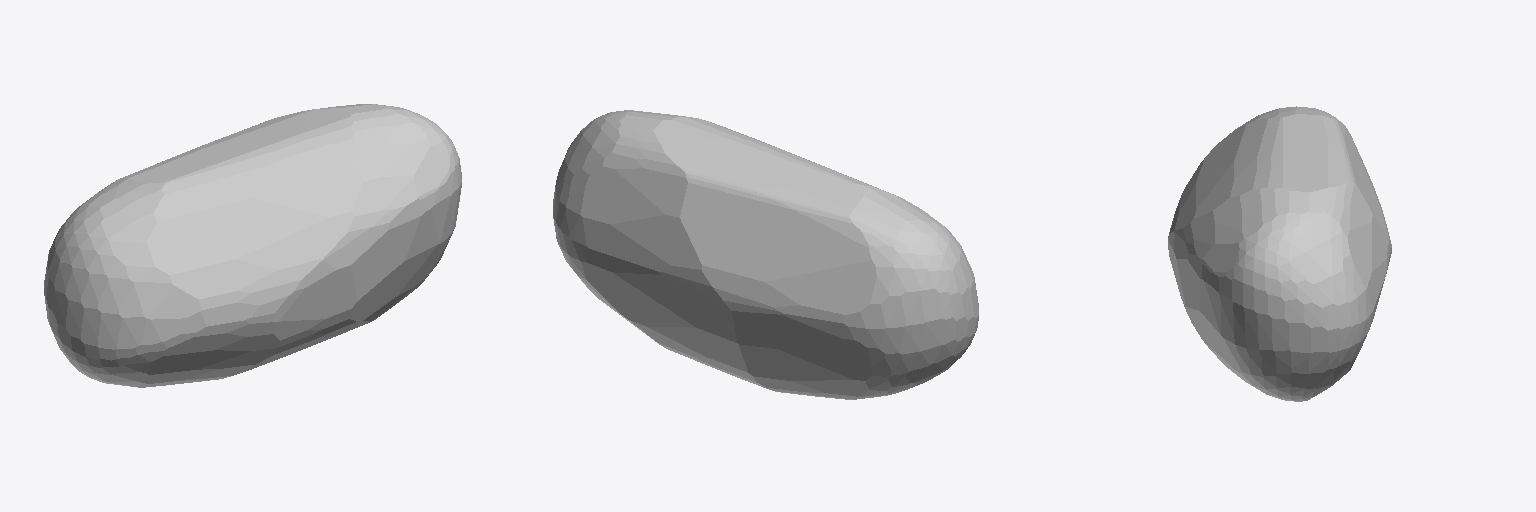
3 renders of one model, left to right at view 1: azimuth 30°, elevation 25°; view 2: azimuth 150°, elevation 25°; view 3: azimuth 270°, elevation 25°, orthographic.
Visible parts, largest first — view 1: SB_279; view 2: SB_279; view 3: SB_279.
Part boxes in pixels (bbox=[...]): SB_279: bbox=[44, 104, 461, 387]; SB_279: bbox=[553, 110, 978, 399]; SB_279: bbox=[1168, 106, 1391, 401].
Size of the model in its own units: 2.35 by 1.29 by 1.14.